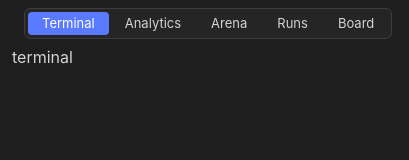
Scenario: ViewSwitcher › clicking a tab selects it
Click the tab "Arena".
click(229, 24)  # box top-left (197, 12), bottom-right (261, 35)
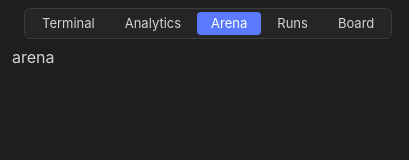
Expected: the text with test id "value" reads "arena", top-left (12, 47), bottom-right (54, 67)
